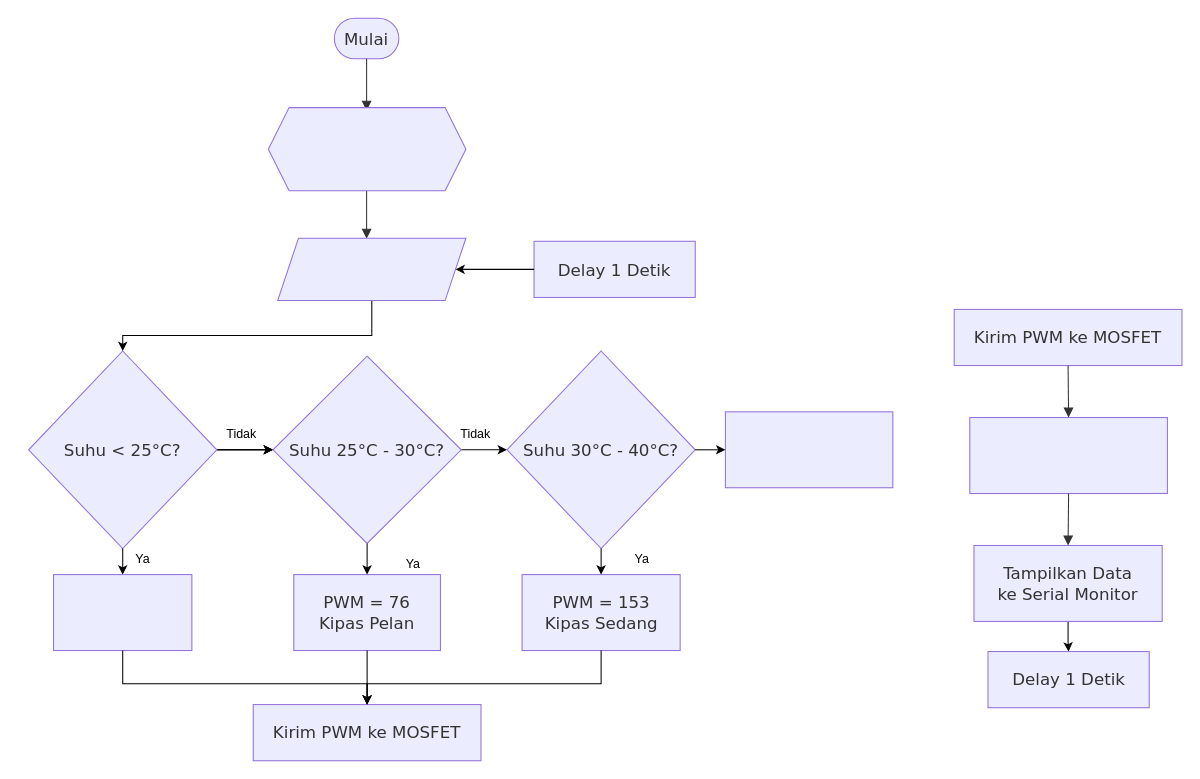
The diagram is 1200 pixels wide and 779 high, and some of its shapes have lost their labels. The centre of each missing label's shape, as x and y in pixels:
Baca Suhu dari DS18B20: the point at 371,269
Inisialisasi ESP32, DS18B20, dan PWM: the point at 366,149
MOSFET Atur Daya 12V ke Kipas: the point at 1068,455
PWM = 0 Kipas Mati: the point at 122,612
PWM = 255 Kipas Kencang: the point at 808,449
